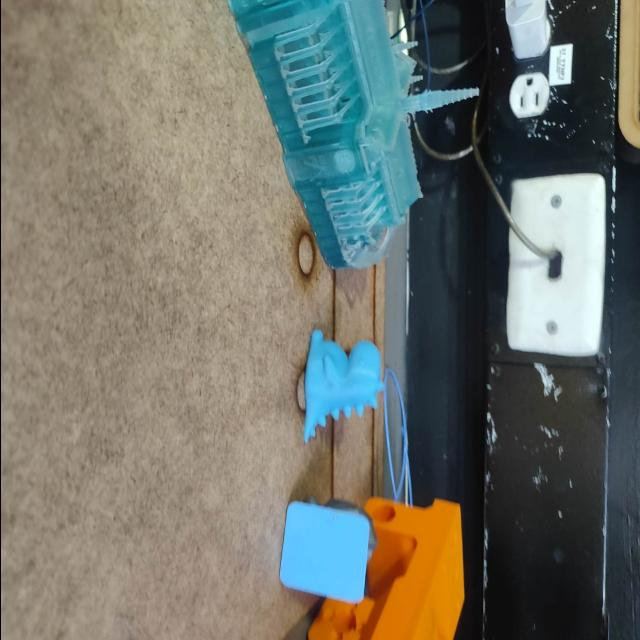DINO: (295, 327, 393, 443)
